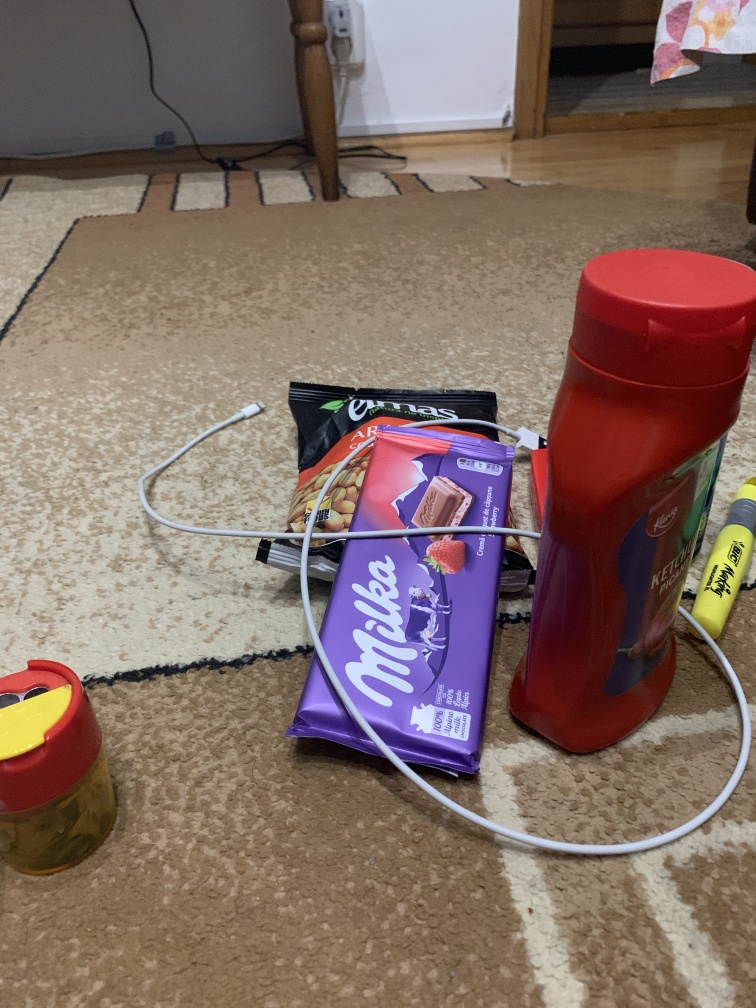ketchup: (517, 241, 756, 776)
milka: (279, 430, 520, 804)
peanuts: (268, 371, 538, 621)
